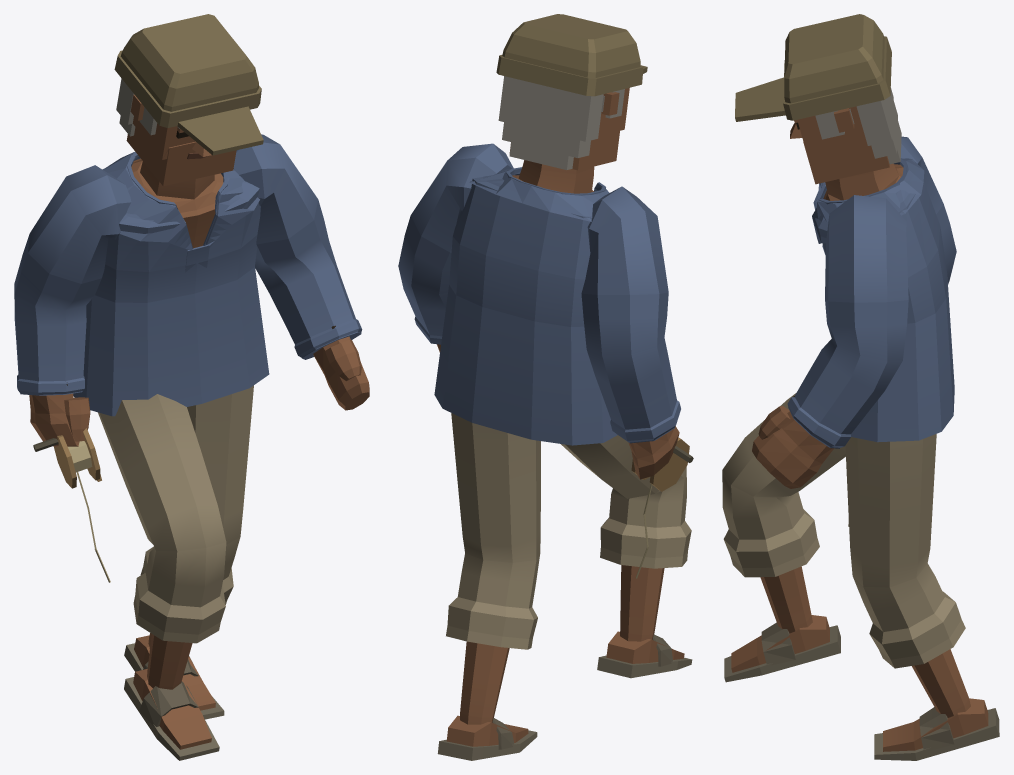
The model's file is hanga-roa-fisherman-e56812__walk3.glb.
3 renders of one model, left to right at view 1: azimuth 30°, elevation 25°; view 2: azimuth 150°, elevation 25°; view 3: azimuth 270°, elevation 25°, orthographic.
Parts seen in each view (by area): view 1: hanga-roa-fisherman-e56812__walk3; view 2: hanga-roa-fisherman-e56812__walk3; view 3: hanga-roa-fisherman-e56812__walk3.
Boxes of the visible parts, x1,y1,x2,y2 form: hanga-roa-fisherman-e56812__walk3: (14, 14, 369, 760); hanga-roa-fisherman-e56812__walk3: (398, 14, 693, 760); hanga-roa-fisherman-e56812__walk3: (722, 14, 999, 760).
Bounding box in the file's own units: 0.7545 × 1.71 × 0.6103.
